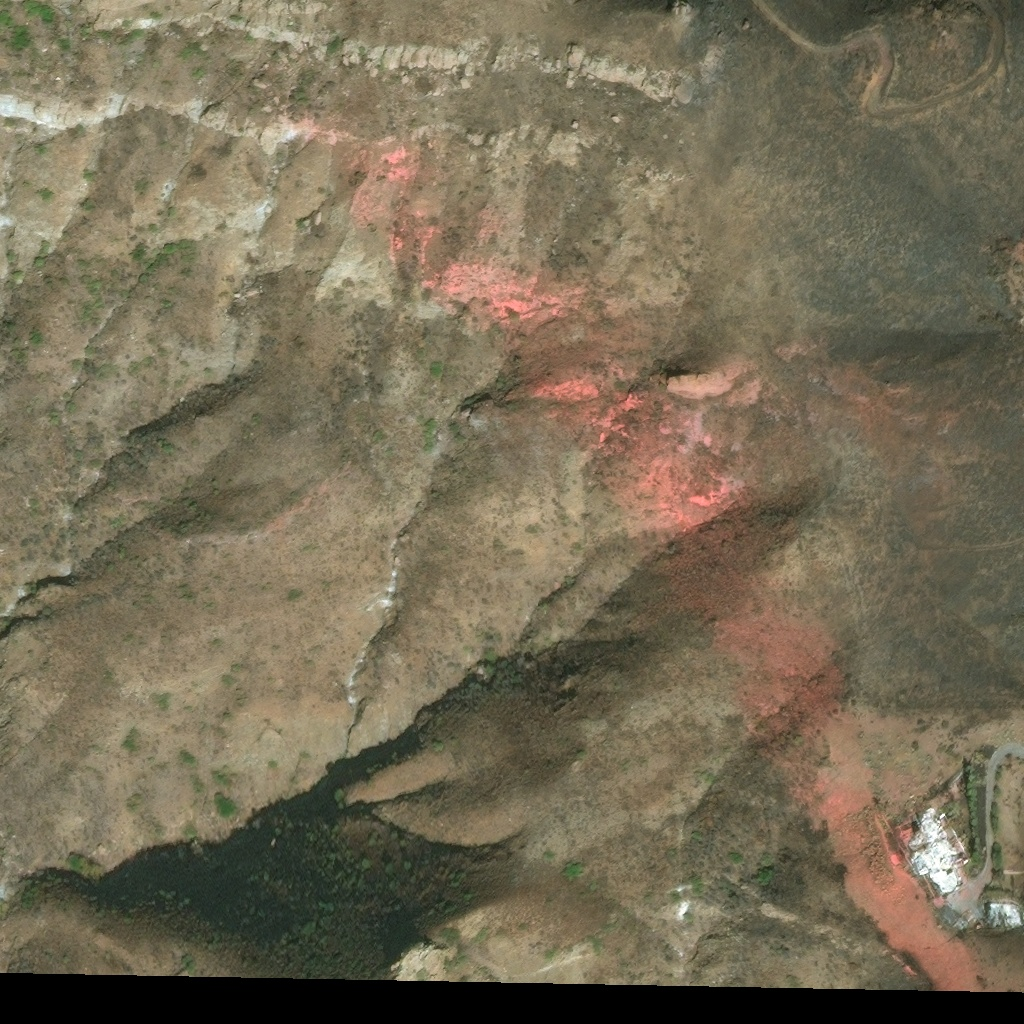3 destroyed: (907, 807, 969, 898), (990, 899, 1023, 930), (942, 903, 963, 924), (960, 918, 969, 926)
